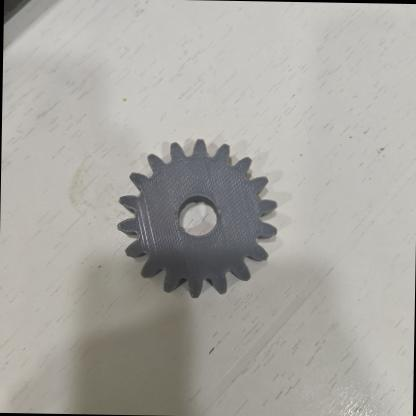gear: (98, 126, 298, 324)
